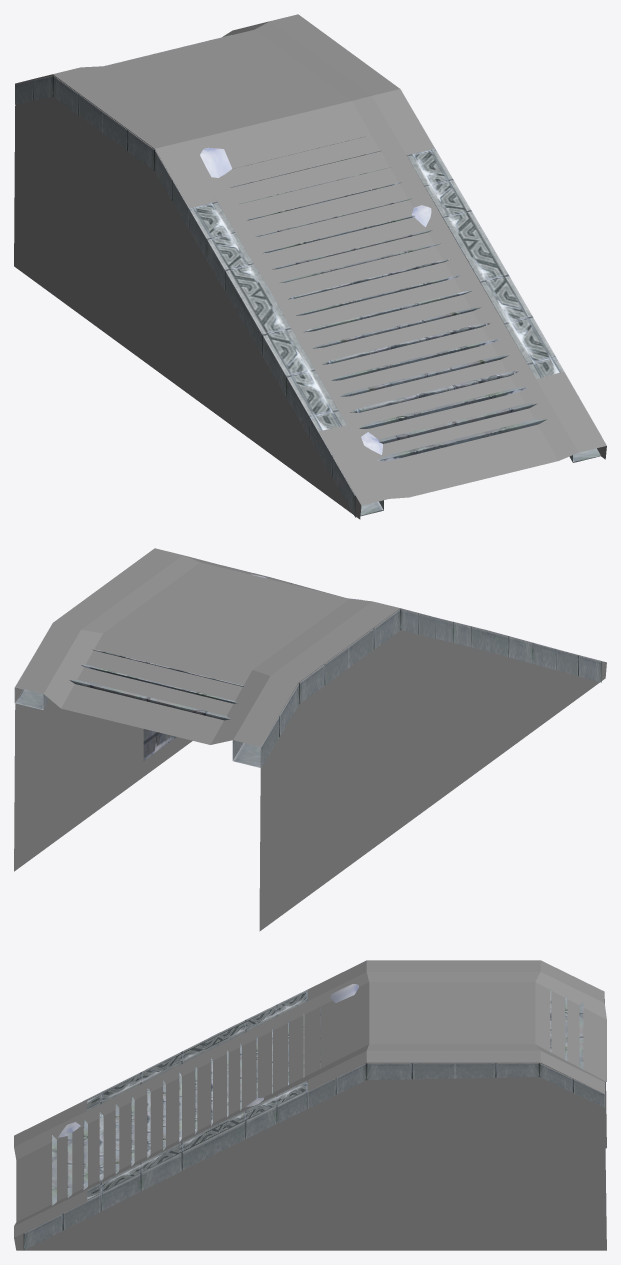
The model's file is Scene_Build_TianShan_DaMen_3.FBX.
3 views of the same model, one above another, from view 1: azimuth 30°, elevation 25°; view 2: azimuth 150°, elevation 25°; view 3: azimuth 270°, elevation 25° (orthographic). The views are drawn at different scales.
Visible parts, largest first — view 1: Scene_Build_TianShan_DaMen_3_Xzm, Scene_Build_TianShan_DaMen_3a, Scene_Build_TianShan_DaMen_3b; view 2: Scene_Build_TianShan_DaMen_3_Xzm, Scene_Build_TianShan_DaMen_3a, Scene_Build_TianShan_DaMen_3b; view 3: Scene_Build_TianShan_DaMen_3_Xzm, Scene_Build_TianShan_DaMen_3a, Scene_Build_TianShan_DaMen_3b.
Boxes of the visible parts, bbox=[...] form: Scene_Build_TianShan_DaMen_3_Xzm: bbox=[14, 14, 606, 519]; Scene_Build_TianShan_DaMen_3a: bbox=[15, 75, 600, 517]; Scene_Build_TianShan_DaMen_3b: bbox=[104, 35, 546, 461]; Scene_Build_TianShan_DaMen_3_Xzm: bbox=[14, 548, 606, 931]; Scene_Build_TianShan_DaMen_3a: bbox=[14, 566, 601, 767]; Scene_Build_TianShan_DaMen_3b: bbox=[69, 574, 362, 720]; Scene_Build_TianShan_DaMen_3_Xzm: bbox=[14, 960, 606, 1250]; Scene_Build_TianShan_DaMen_3a: bbox=[23, 985, 604, 1249]; Scene_Build_TianShan_DaMen_3b: bbox=[52, 984, 583, 1205].
Bounding box in the file's own units: 625 × 537 × 1527.
